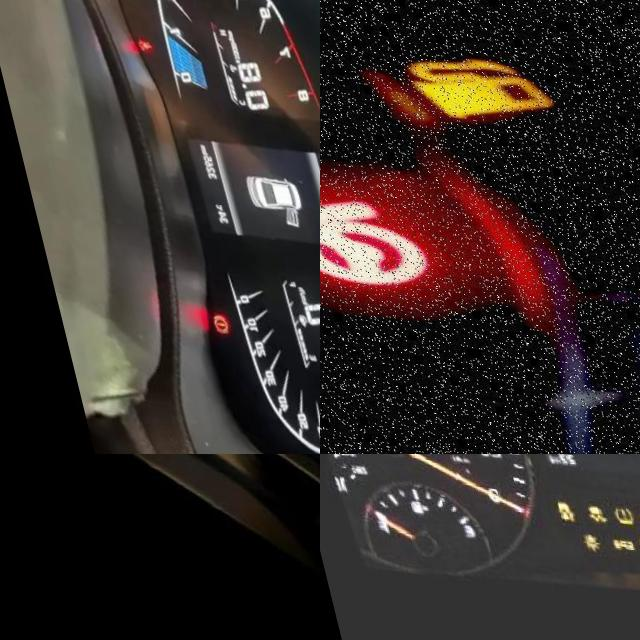Electronic Power Steering: (320, 160, 443, 309)
Seat Belt: (128, 31, 146, 48)
